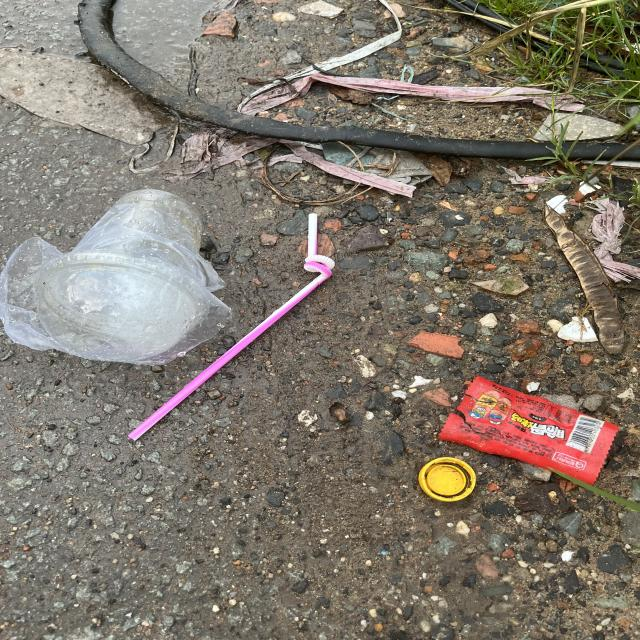drinking straw: (123, 214, 335, 442)
lid: (420, 458, 477, 502)
packet: (436, 376, 624, 486)
plastic glass: (33, 190, 211, 363)
